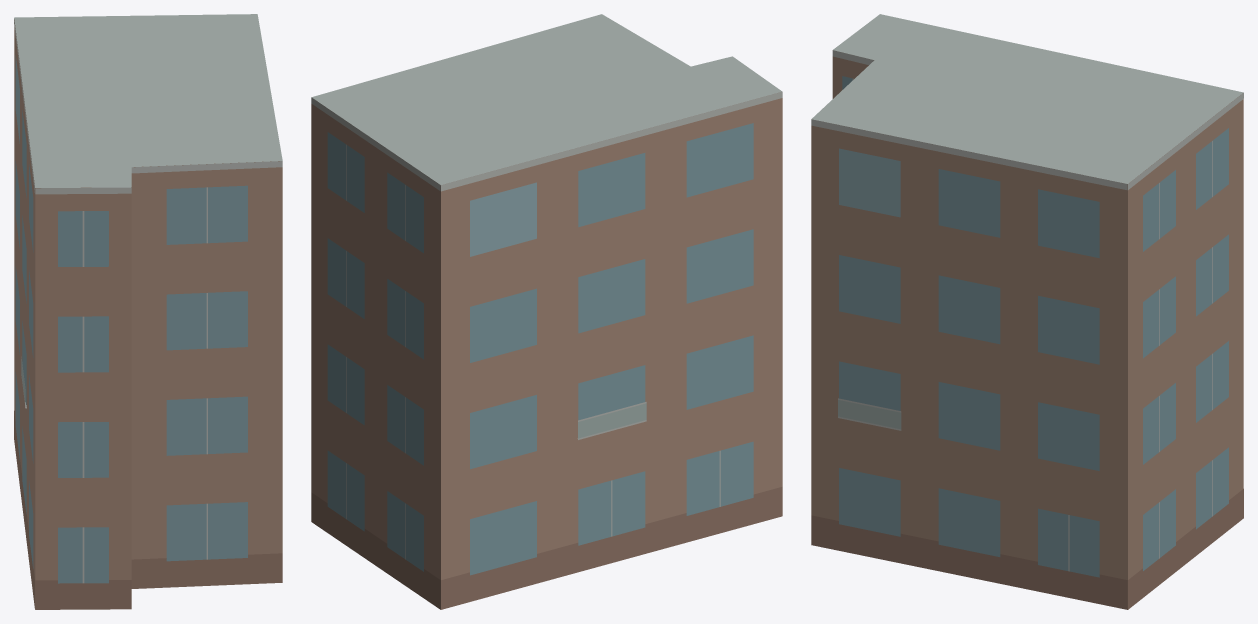
The model's file is survey-upis-32585922.glb.
3 renders of one model, left to right at view 1: azimuth 30°, elevation 25°; view 2: azimuth 150°, elevation 25°; view 3: azimuth 270°, elevation 25°, orthographic.
Visible parts, largest first — view 1: survey-upis-32585922.tmp; view 2: survey-upis-32585922.tmp; view 3: survey-upis-32585922.tmp.
Boxes of the visible parts, <box> form: survey-upis-32585922.tmp: <box>14,14,282,609</box>; survey-upis-32585922.tmp: <box>311,14,782,609</box>; survey-upis-32585922.tmp: <box>811,14,1243,609</box>.
Size of the model in its own units: 14.06 by 16.4 by 15.11.
